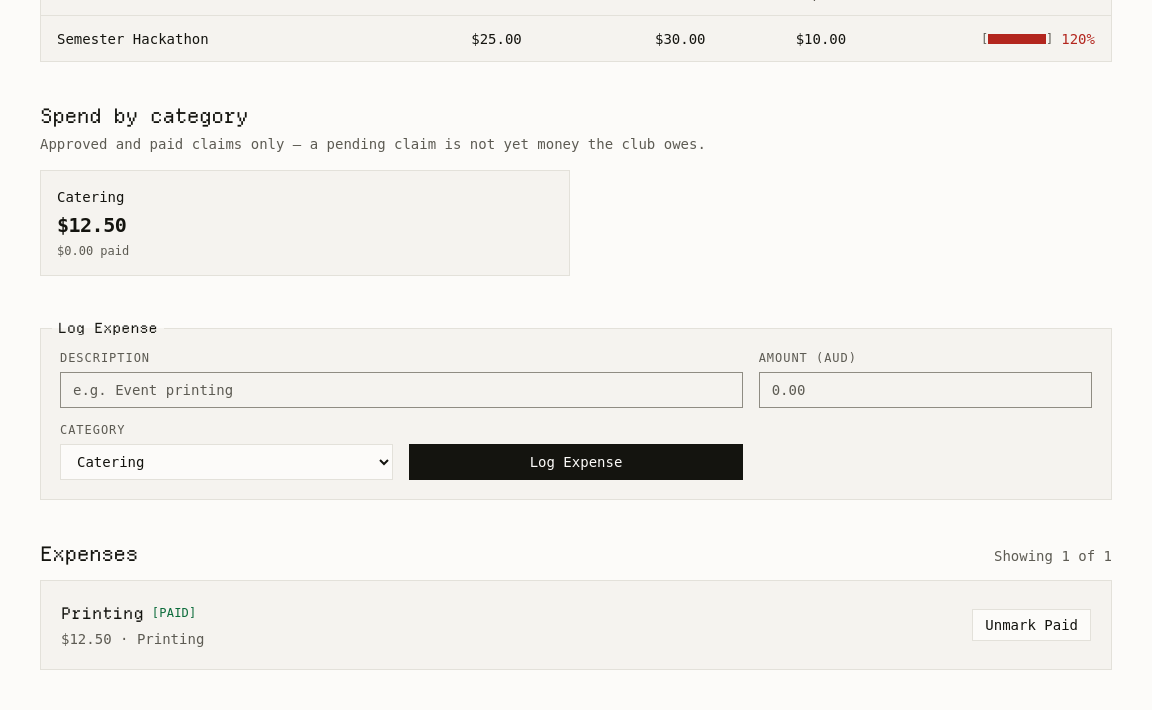
FinancePage › unmarks a paid expense, returning it to approved
(page scrolled)
Click the button with aria-label "Mark Printing unpaid".
click(1032, 625)  # box [972,609,1091,641]
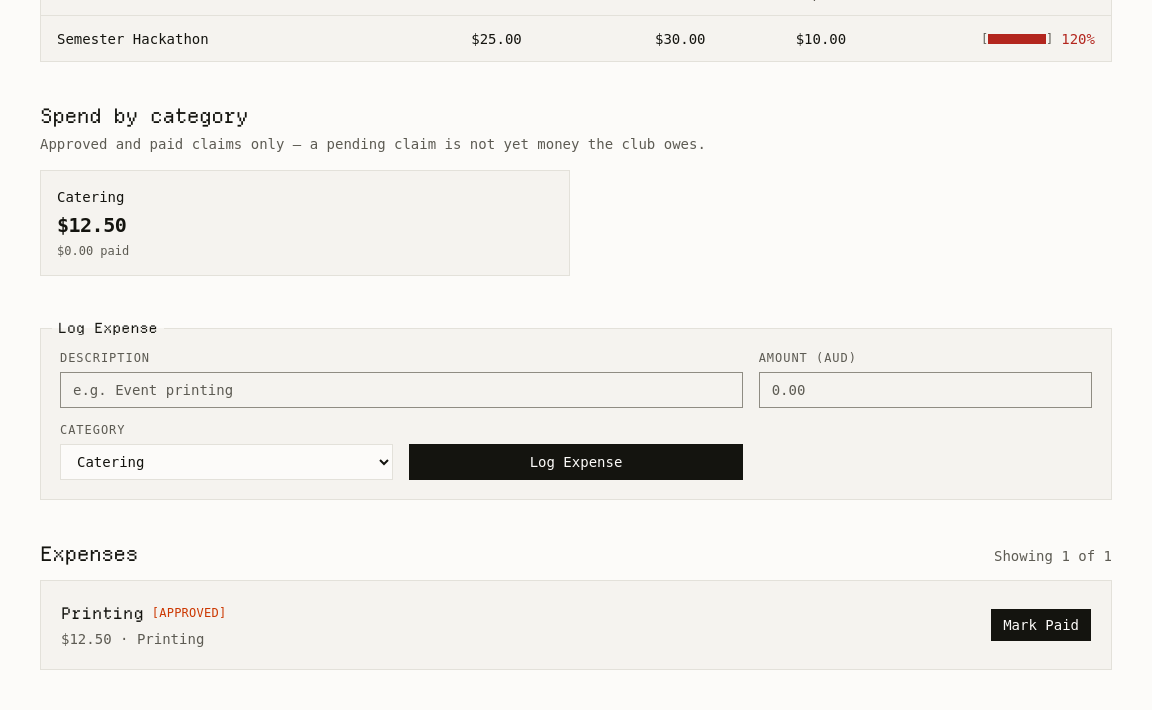
Expected: the button with aria-label "Mark Printing paid" is shown, [991,609,1091,641]
